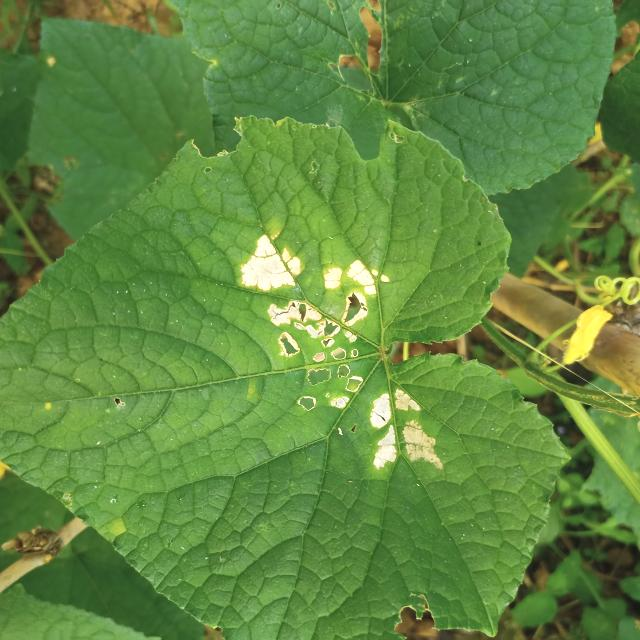disease_cucumber: (232, 230, 392, 416), (363, 382, 445, 475)
